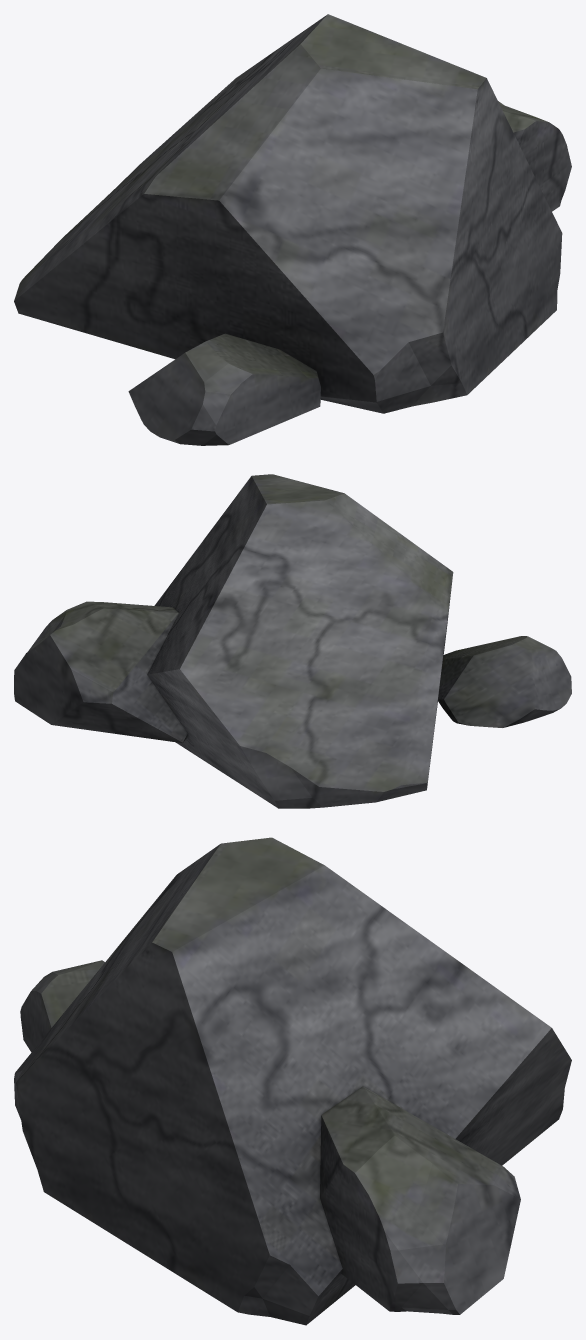
The model's file is fels1.glb.
3 views of the same model, one above another, from view 1: azimuth 30°, elevation 25°; view 2: azimuth 150°, elevation 25°; view 3: azimuth 270°, elevation 25° (orthographic). The views are drawn at different scales.
Parts seen in each view (by area): view 1: fels1; view 2: fels1; view 3: fels1.
Boxes of the visible parts, bbox=[...] form: fels1: bbox=[14, 14, 571, 445]; fels1: bbox=[14, 474, 571, 808]; fels1: bbox=[14, 837, 571, 1325].
Size of the model in its own units: 2.12 by 1.15 by 1.67.
1 material, 1 textured.
